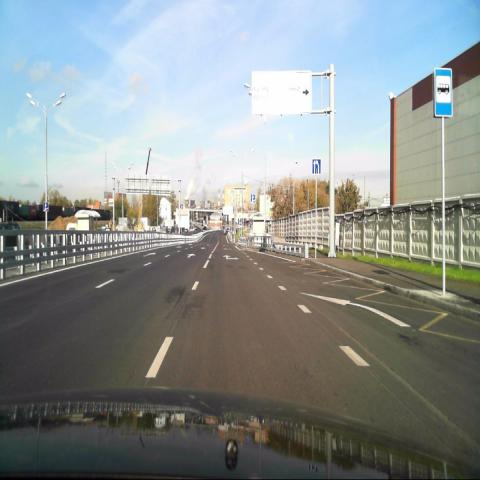5_16: (434, 67, 453, 117)
